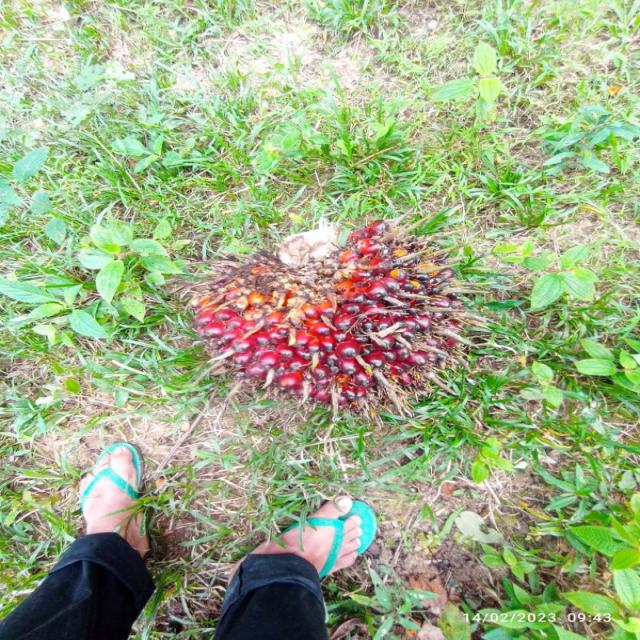fraksi 3: (167, 155, 482, 434)
